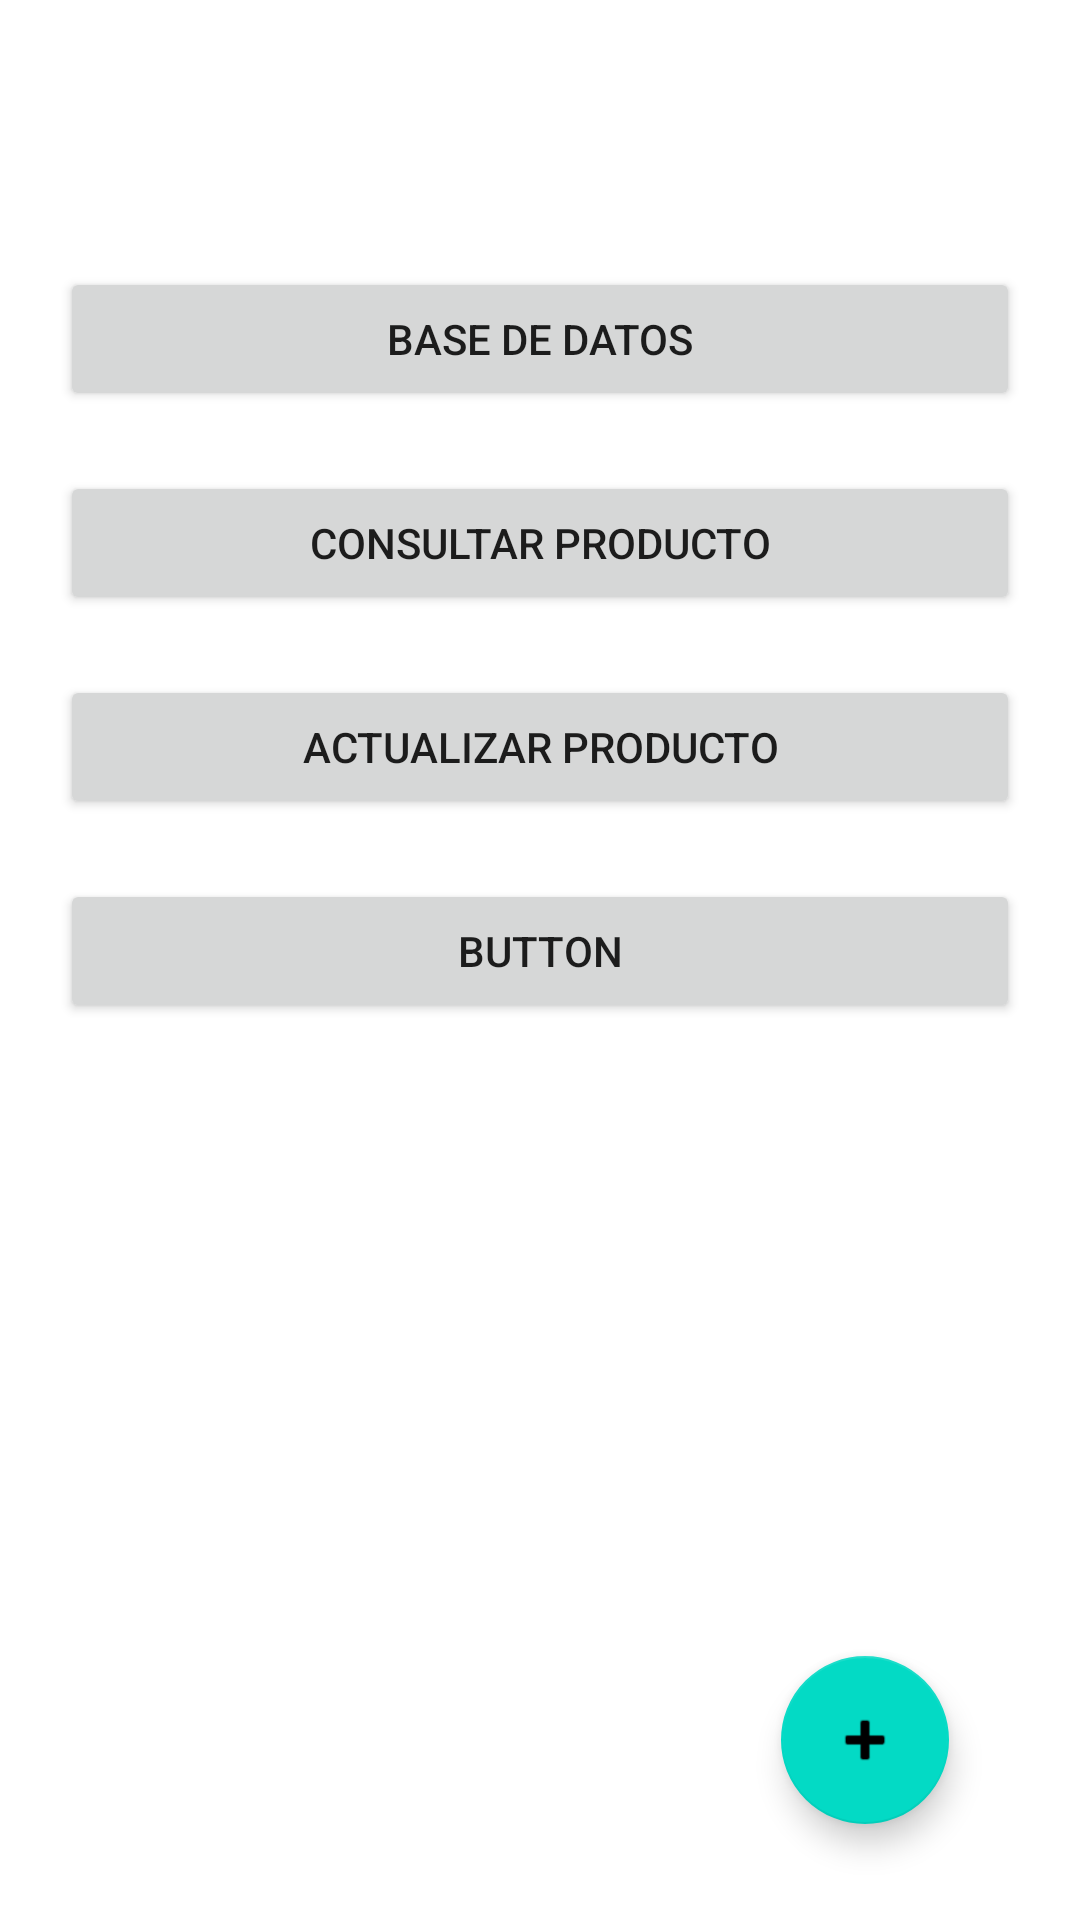

Point at icon controls on the screen. Image size 1080 x 1920, points as (x,y).
add: (865,1740)
